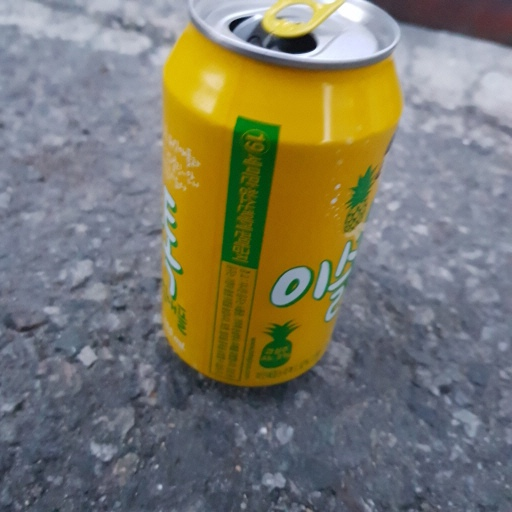Metal_0: (158, 1, 404, 390)
